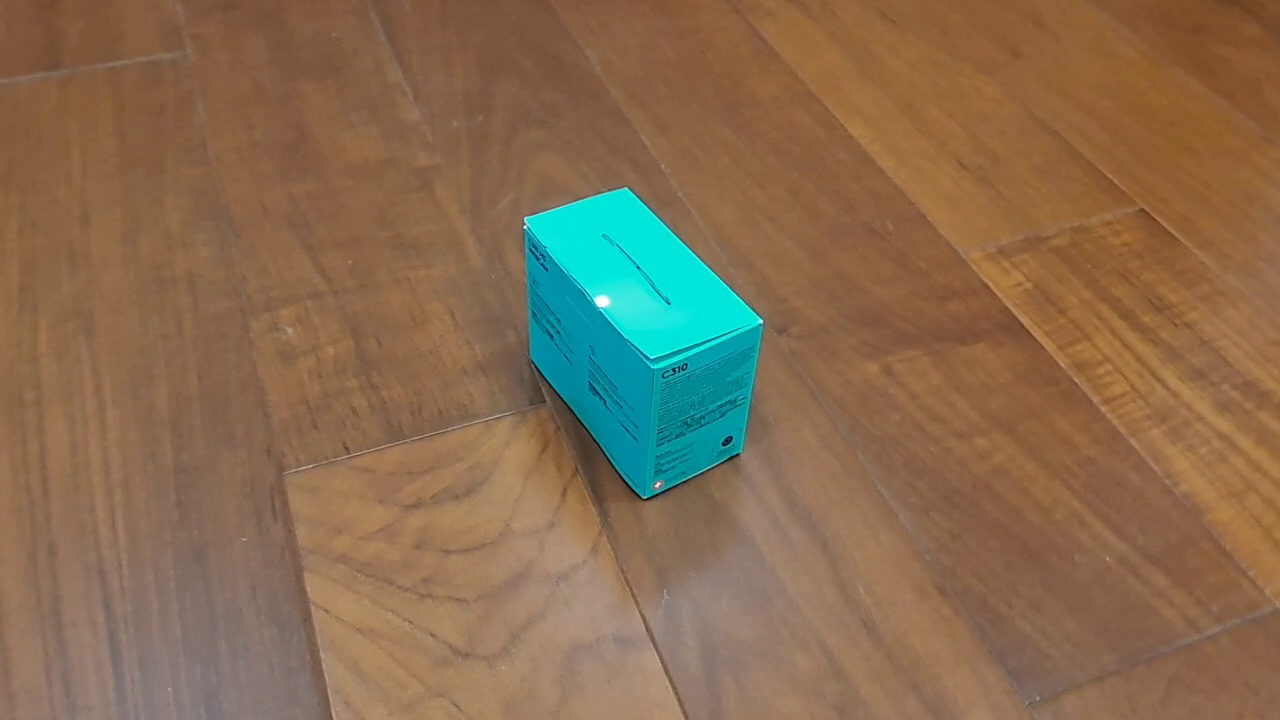webcam: (521, 185, 766, 503)
